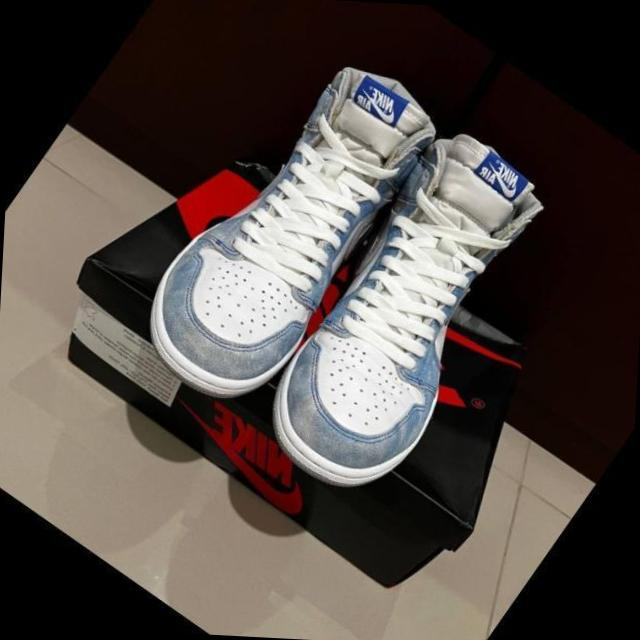nike_original_jordan: (228, 102, 590, 528), (113, 21, 462, 435)
